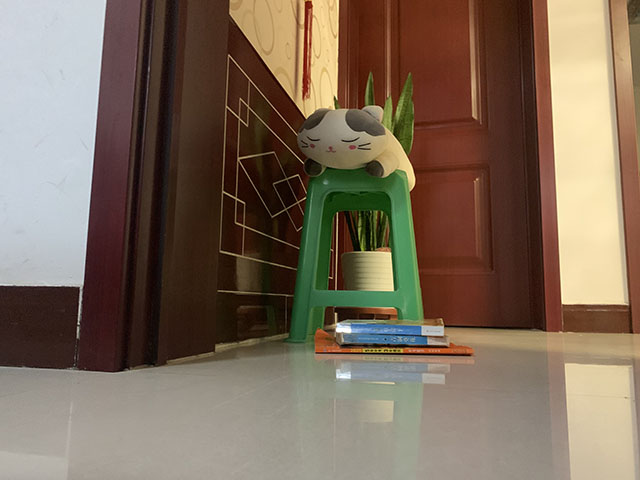book: (313, 317, 475, 358)
stool: (282, 168, 425, 344)
